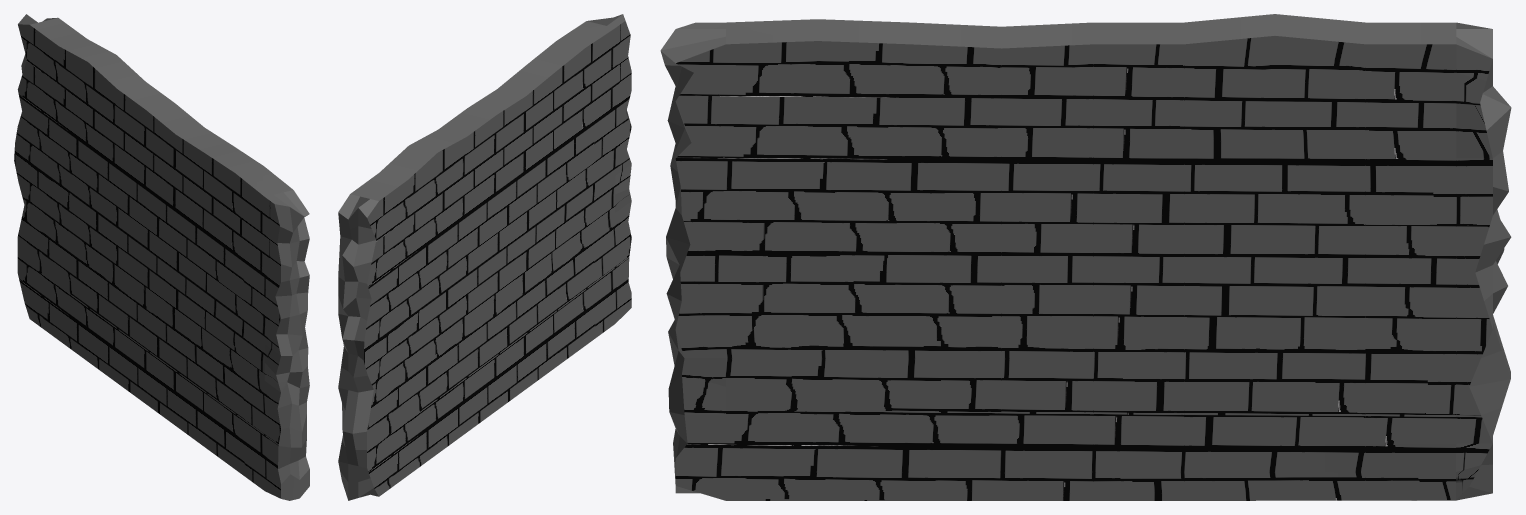
File: wall_textured.fbx
The picture shows the model from 3 angles, left to right: view 1: azimuth 30°, elevation 25°; view 2: azimuth 150°, elevation 25°; view 3: azimuth 270°, elevation 25°; orthographic projection. The views are drawn at different scales.
Visible parts, largest first — view 1: Cube.001; view 2: Cube.001; view 3: Cube.001.
Boxes of the visible parts, <box> form: Cube.001: <box>14,14,309,500</box>; Cube.001: <box>338,14,631,500</box>; Cube.001: <box>660,14,1511,500</box>.
Bounding box in the file's own units: 89.58 × 757 × 1254.
